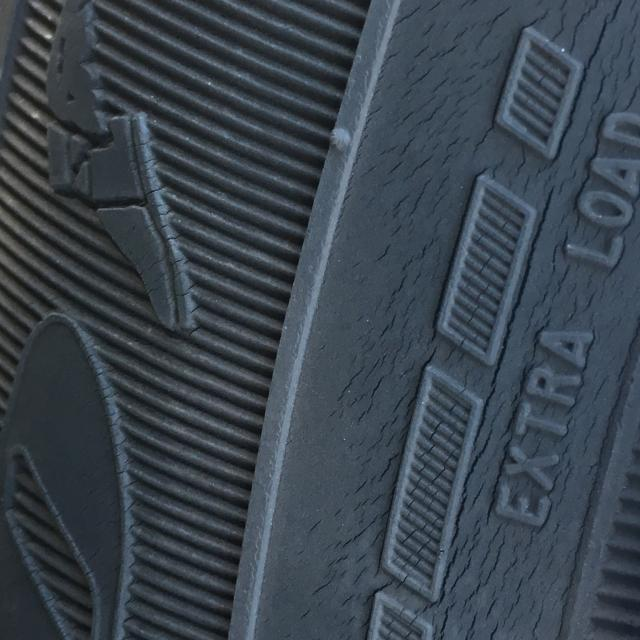Cracks: (225, 0, 639, 638), (37, 0, 221, 361)
